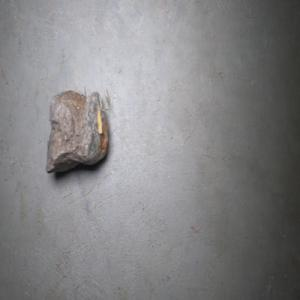Rock: (45, 86, 109, 174)
